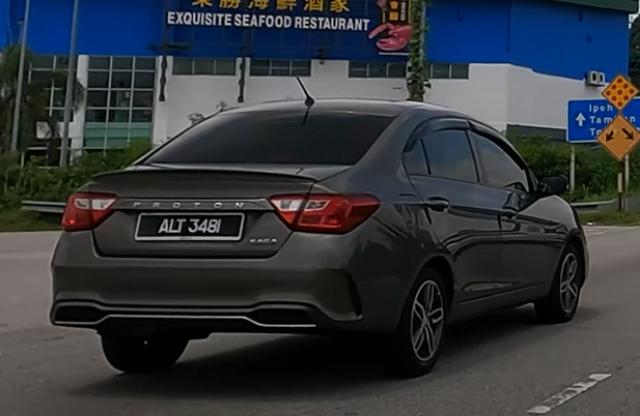License_Plate: (134, 212, 246, 244)
car: (49, 84, 590, 379)
